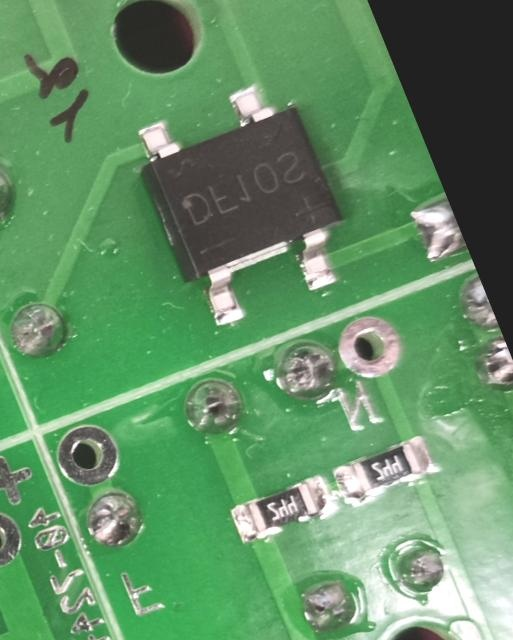chip-resistor: (328, 428, 440, 510), (223, 468, 335, 547)
ic: (116, 64, 368, 340)
